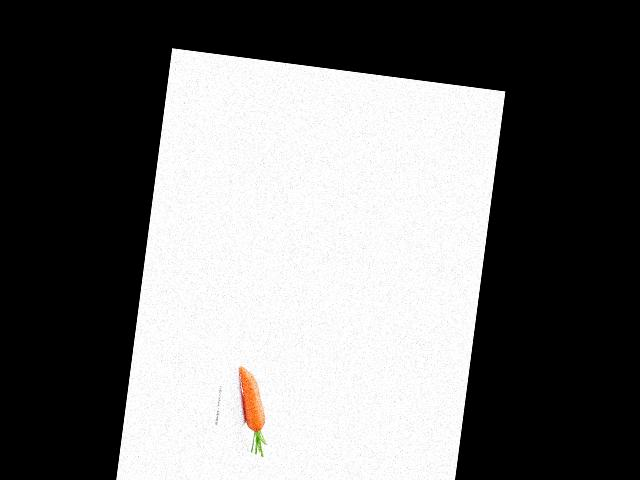carrot: (229, 361, 274, 441)
